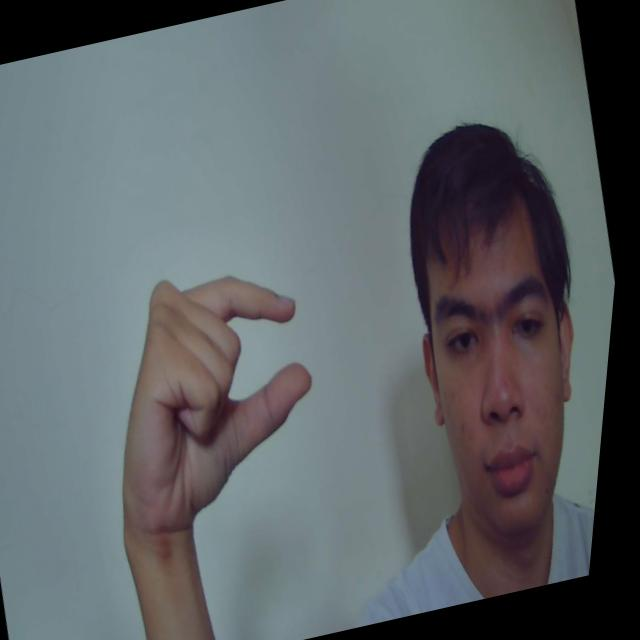G: (76, 245, 354, 538)
